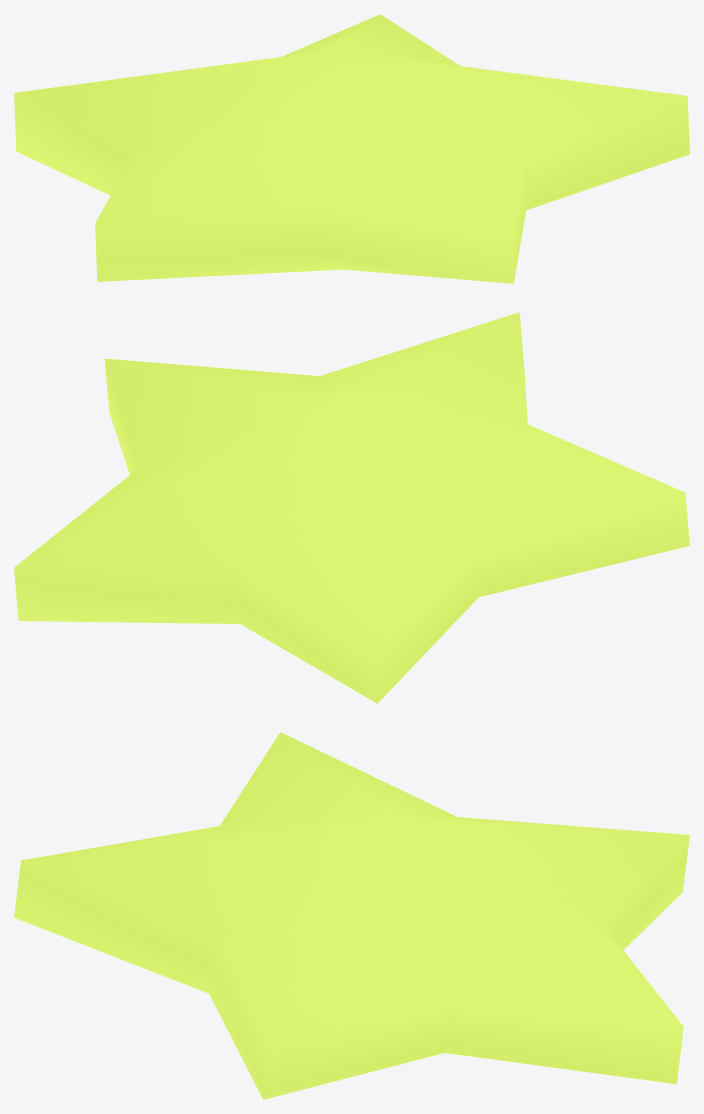
Rendered from star.gltf.
3 views of the same model, one above another, from view 1: azimuth 30°, elevation 25°; view 2: azimuth 150°, elevation 25°; view 3: azimuth 270°, elevation 25° (orthographic). The views are drawn at different scales.
Visible parts, largest first — view 1: star.012; view 2: star.012; view 3: star.012.
Boxes of the visible parts, <box> form: star.012: <box>14,14,689,283</box>; star.012: <box>14,312,689,703</box>; star.012: <box>14,732,689,1099</box>.
Bounding box in the file's own units: 2.05 × 0.6981 × 1.97.
